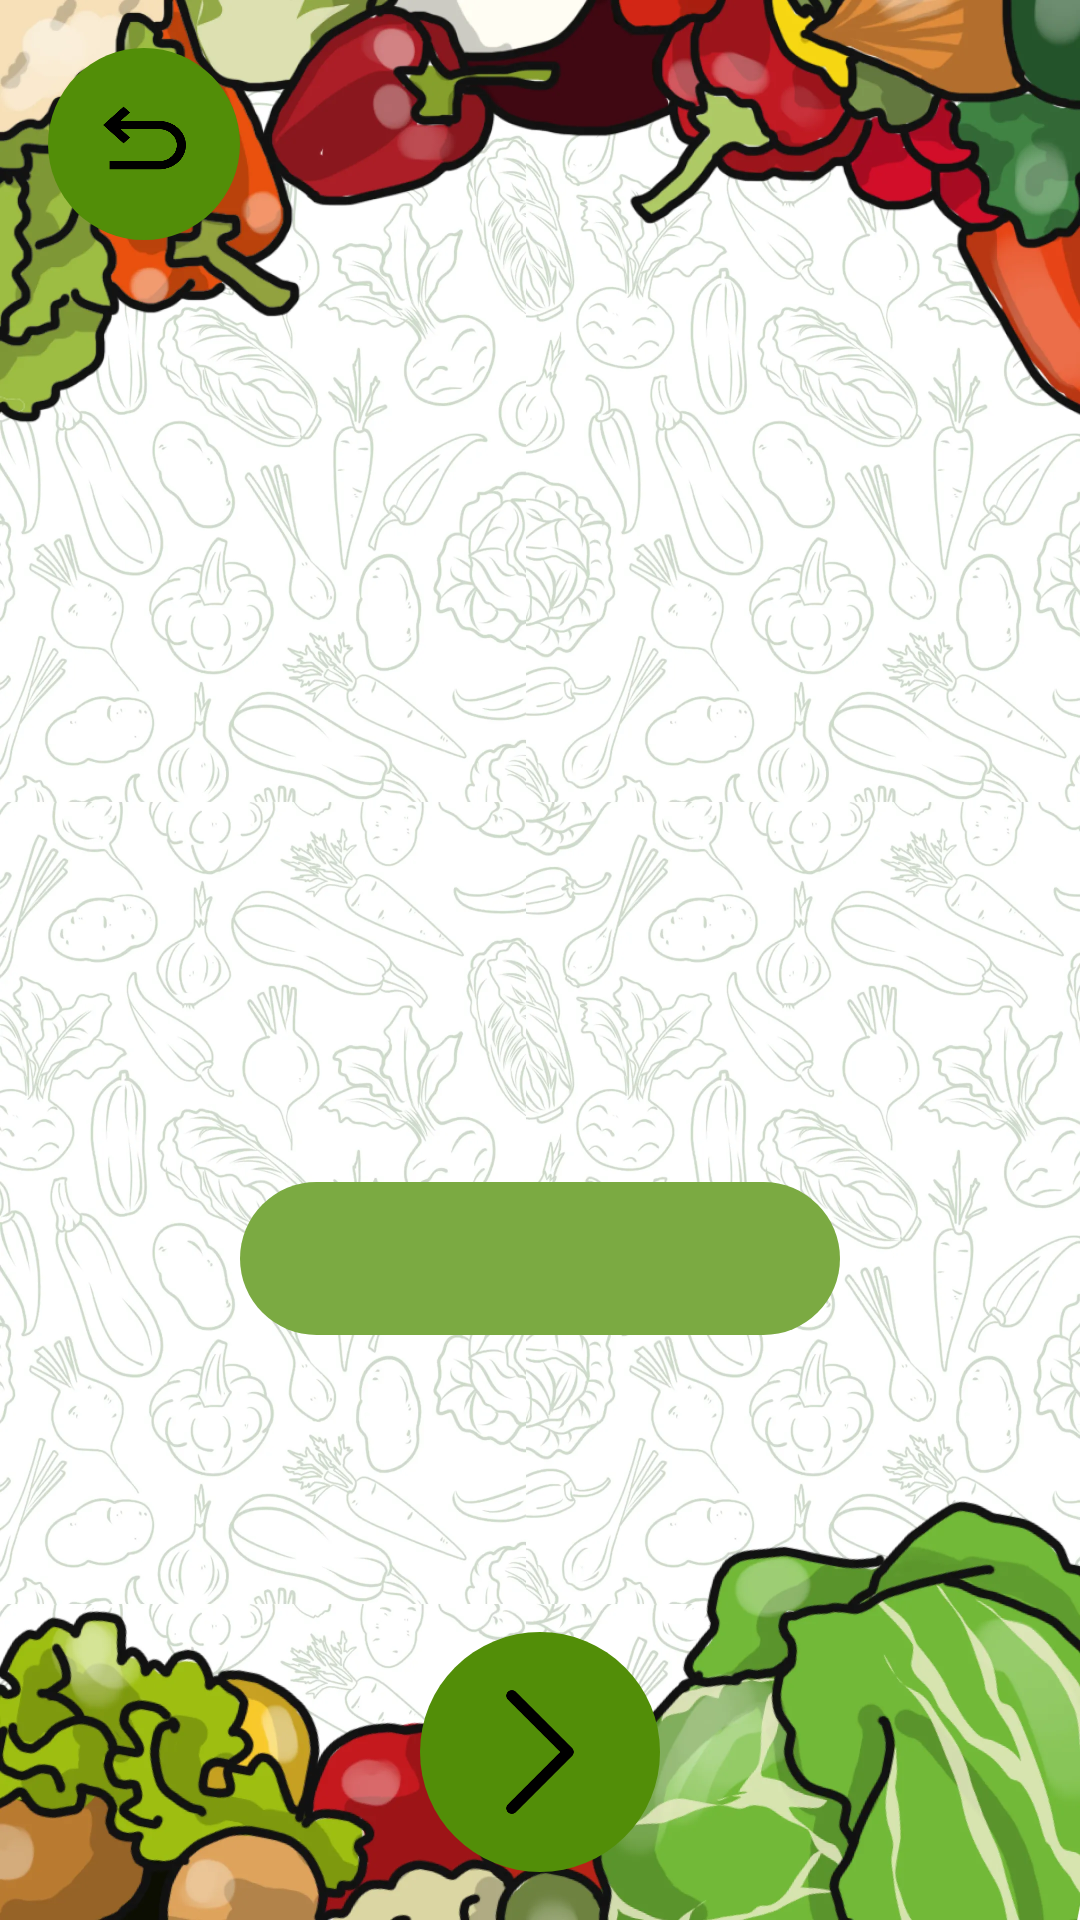

Where icons sit on this 1080px x 1920px app screen, as (x1, y1, x2, y2):
Next: (506, 1690, 574, 1814)
turn left: (103, 107, 186, 170)
